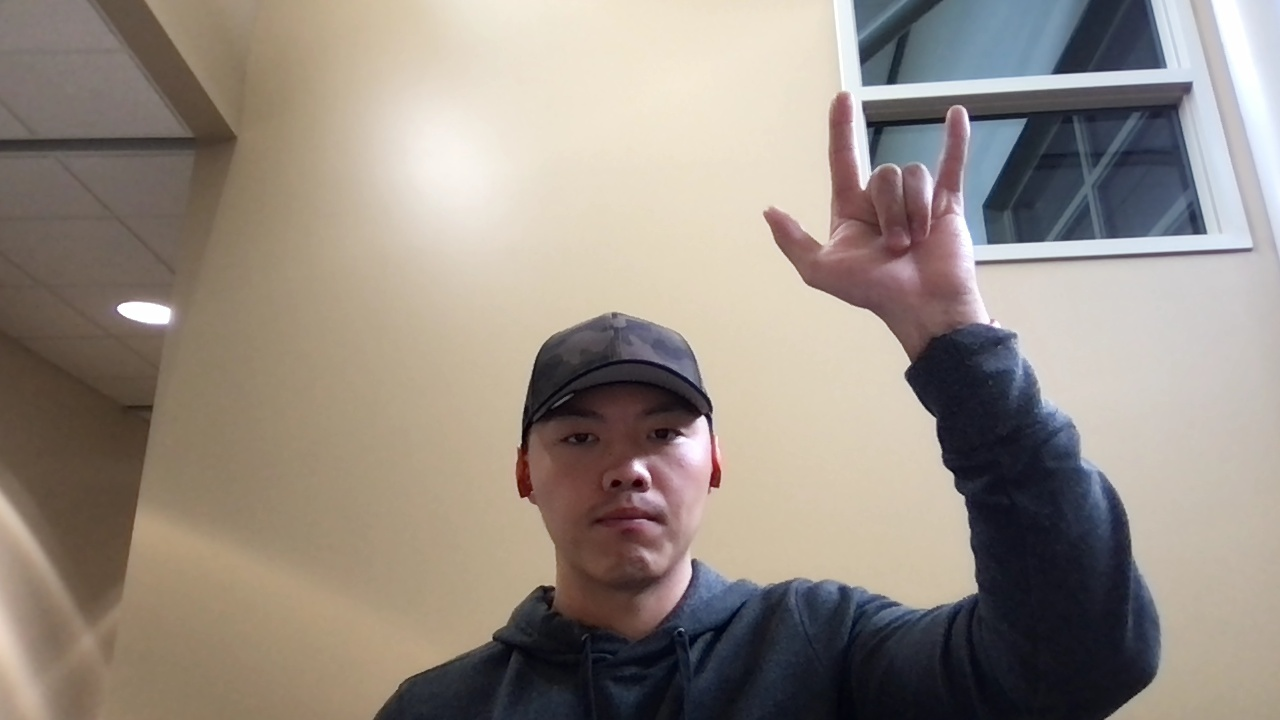I Love You: (763, 89, 989, 312)
